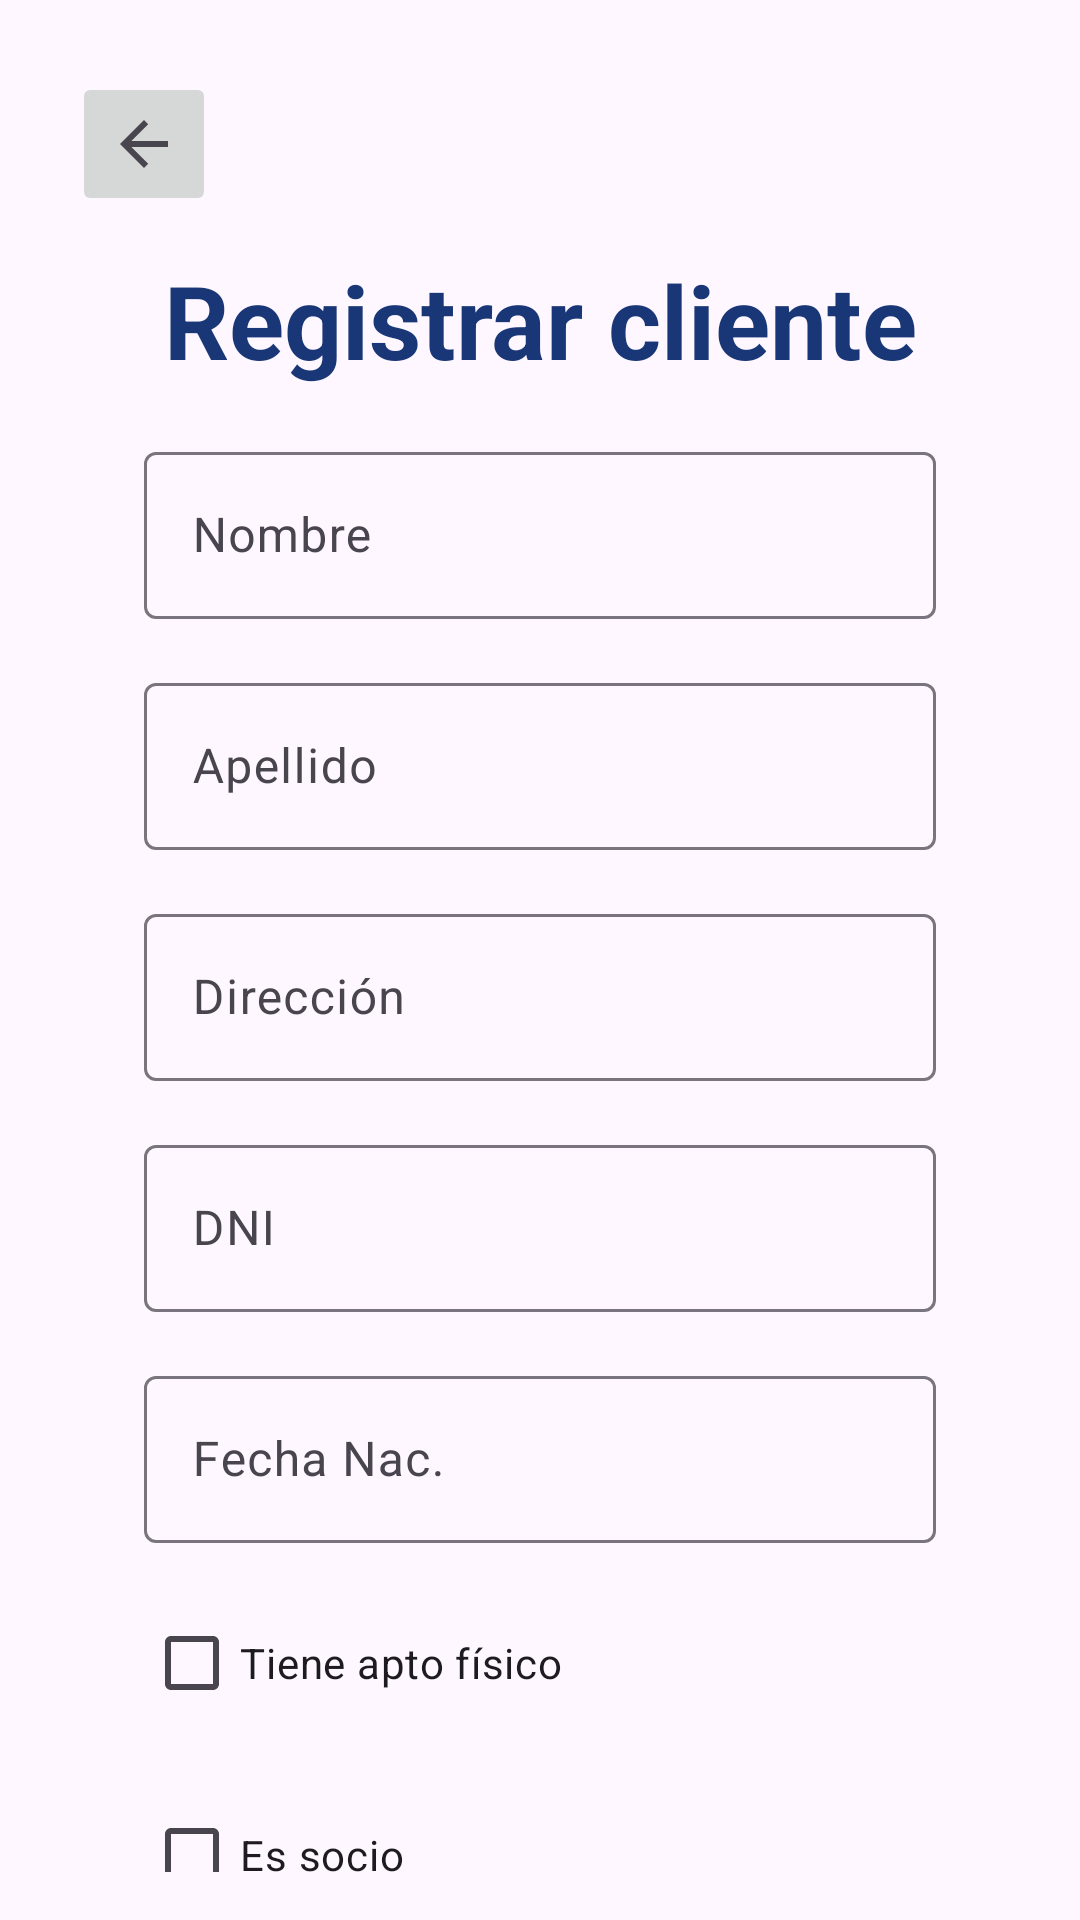

Where to tap for icons on this 1080*1920 app screen, as (x,y):
Back: (144,144)
